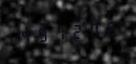four: (17, 24, 33, 46)
nine: (34, 22, 50, 45)
one: (52, 21, 68, 43)
six: (103, 16, 119, 39)
two: (69, 19, 85, 42)
zero: (86, 18, 102, 40)
